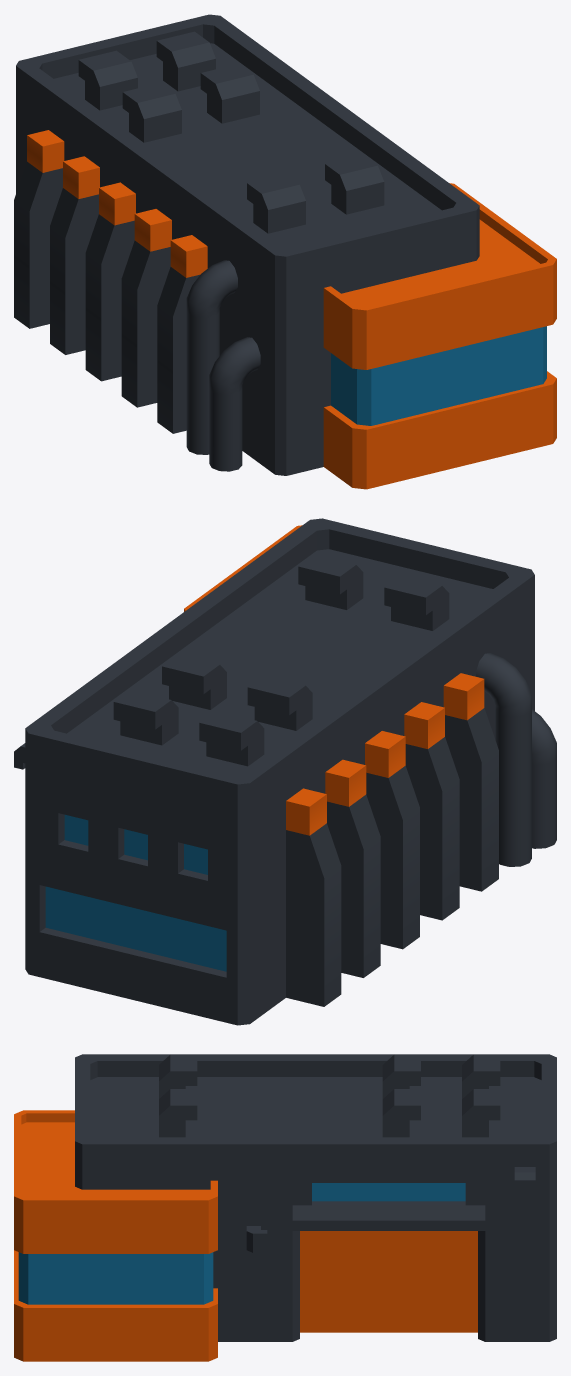
Rendered from Building_01.FBX.
The picture shows the model from 3 angles, top to bottom: view 1: azimuth 30°, elevation 25°; view 2: azimuth 150°, elevation 25°; view 3: azimuth 270°, elevation 25°; orthographic projection. The views are drawn at different scales.
Visible parts, largest first — view 1: Building_01; view 2: Building_01; view 3: Building_01.
Part boxes in pixels (x1=…): Building_01: x1=14, y1=14, x2=556, y2=489; Building_01: x1=14, y1=518, x2=556, y2=1025; Building_01: x1=14, y1=1054, x2=556, y2=1361.
Size of the model in its own units: 19.57 by 15.26 by 35.24.
